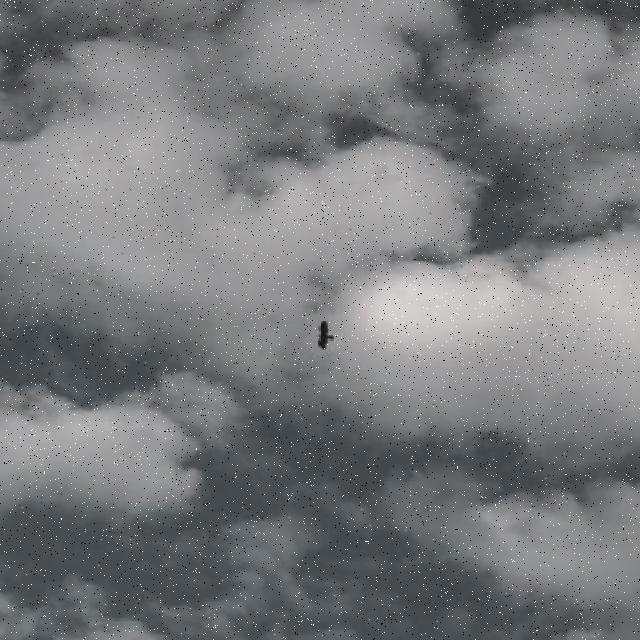bird: (313, 318, 336, 352)
